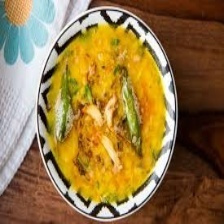dal: (46, 26, 167, 202)
